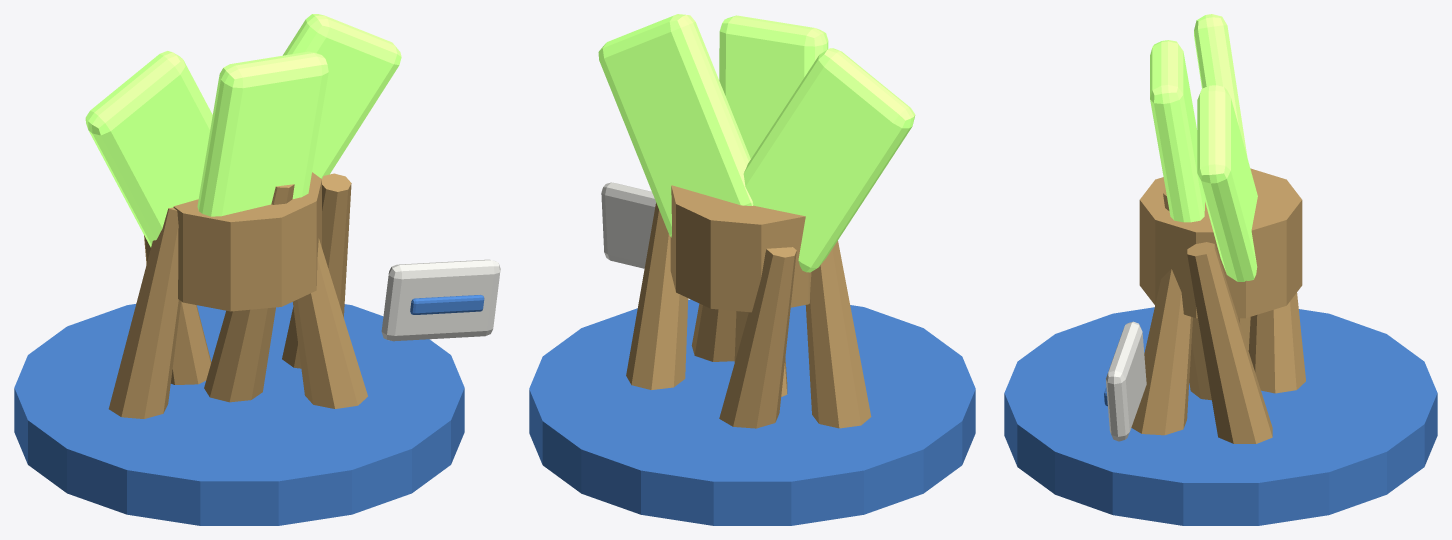
The model's file is grove_clean_root_sample.glb.
3 views of the same model, side by side, from view 1: azimuth 30°, elevation 25°; view 2: azimuth 150°, elevation 25°; view 3: azimuth 270°, elevation 25° (orthographic). The views are drawn at different scales.
Visible parts, largest first — view 1: Clean_Sample_Tray, Leaf_3, Leaf_1, Root_Crown, Leaf_2, Root_1, Clean_Sample_Tag, Root_5, Root_2, Root_3, Root_4, Clean_Tag_Stripe; view 2: Clean_Sample_Tray, Leaf_1, Leaf_2, Root_Crown, Leaf_3, Root_4, Root_1, Root_3, Clean_Sample_Tag, Root_5, Root_2; view 3: Clean_Sample_Tray, Root_Crown, Root_3, Leaf_2, Leaf_3, Root_5, Root_4, Clean_Sample_Tag, Leaf_1, Root_2.
Boxes of the visible parts, x1,y1,x2,y2 form: Clean_Sample_Tray: (14, 302, 464, 525); Leaf_3: (197, 51, 328, 216); Leaf_1: (85, 51, 212, 247); Root_Crown: (173, 172, 321, 311); Leaf_2: (283, 14, 401, 178); Root_1: (108, 207, 180, 418); Clean_Sample_Tag: (381, 259, 500, 341); Root_5: (293, 238, 367, 408); Root_2: (204, 184, 294, 402); Root_3: (282, 173, 351, 368); Root_4: (144, 235, 211, 384); Clean_Tag_Stripe: (410, 295, 484, 314); Clean_Sample_Tray: (529, 299, 975, 525); Leaf_1: (743, 48, 915, 272); Leaf_2: (598, 14, 753, 237); Root_Crown: (670, 185, 811, 312); Leaf_3: (719, 15, 828, 158); Root_4: (719, 247, 796, 428); Root_1: (805, 241, 871, 428); Root_3: (626, 202, 688, 389); Clean_Sample_Tag: (601, 182, 655, 268); Root_5: (691, 303, 736, 361); Root_2: (734, 311, 787, 396); Clean_Sample_Tray: (1004, 307, 1437, 525); Root_Crown: (1139, 168, 1302, 318); Root_3: (1187, 242, 1272, 443); Leaf_2: (1197, 85, 1257, 281); Leaf_3: (1150, 40, 1204, 222); Root_5: (1131, 269, 1192, 435); Root_4: (1248, 293, 1305, 393); Clean_Sample_Tag: (1106, 321, 1146, 441); Leaf_1: (1194, 14, 1247, 156); Root_2: (1163, 188, 1211, 400).
Bounding box in the file's own units: 1.3 × 1.44 × 1.28.
